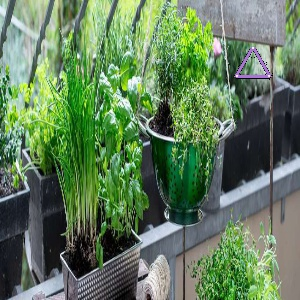triangle: (231, 42, 274, 80)
